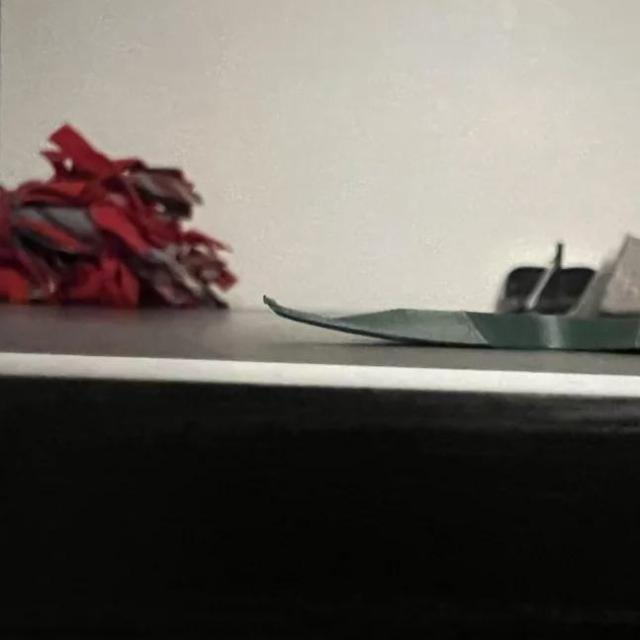Warping: (262, 299, 362, 349)
